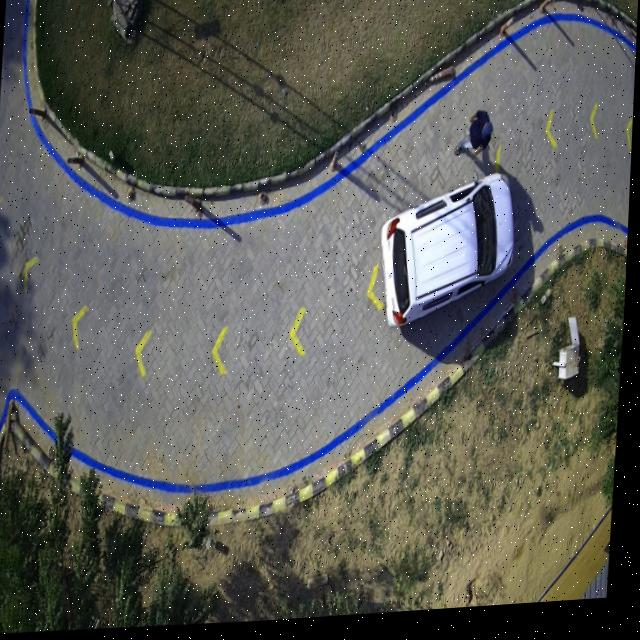car: (383, 181, 517, 330)
